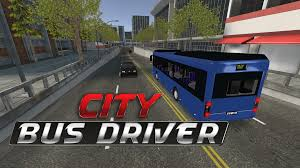bus: (151, 46, 269, 124)
